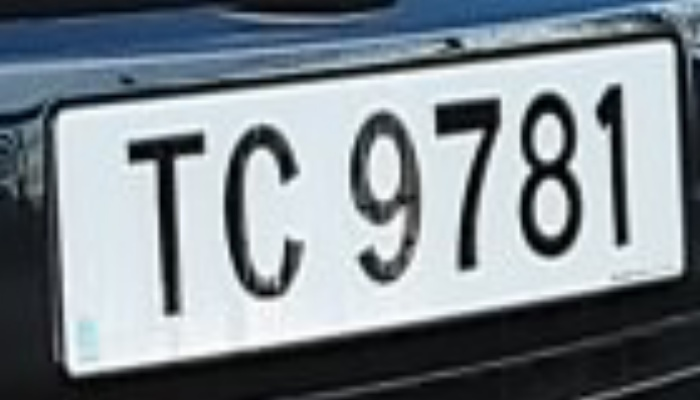1: (581, 55, 645, 278)
7: (424, 75, 519, 303)
8: (506, 59, 594, 288)
9: (330, 88, 434, 314)
C: (208, 102, 318, 336)
T: (99, 100, 220, 346)
